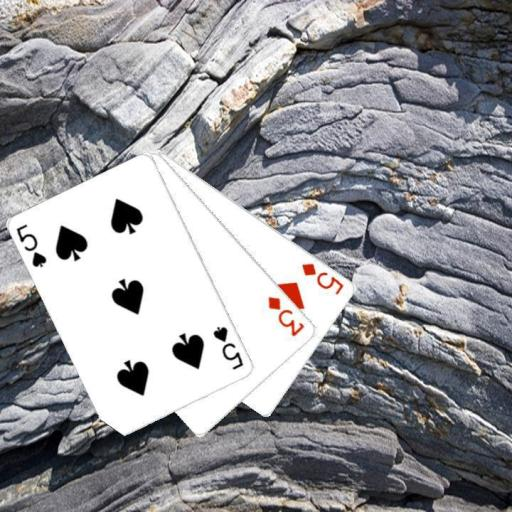card-corner: (264, 293, 306, 338), (298, 260, 346, 296), (210, 323, 245, 371), (14, 221, 48, 270)
